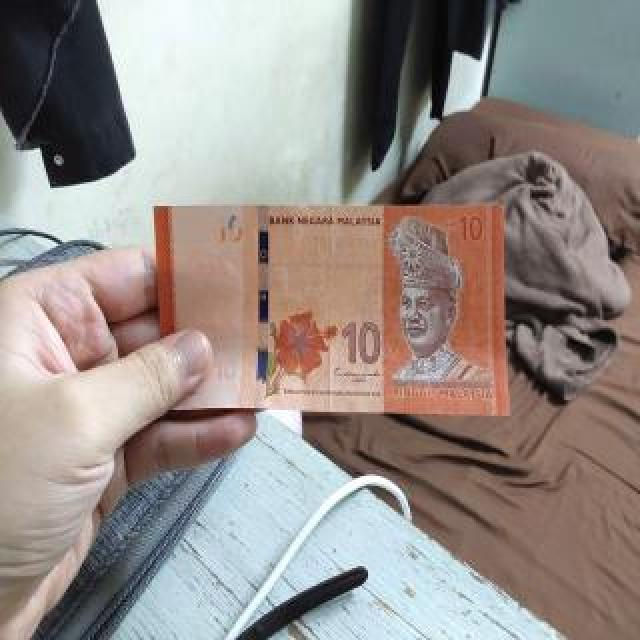10 Ringgit: (152, 202, 507, 413)
